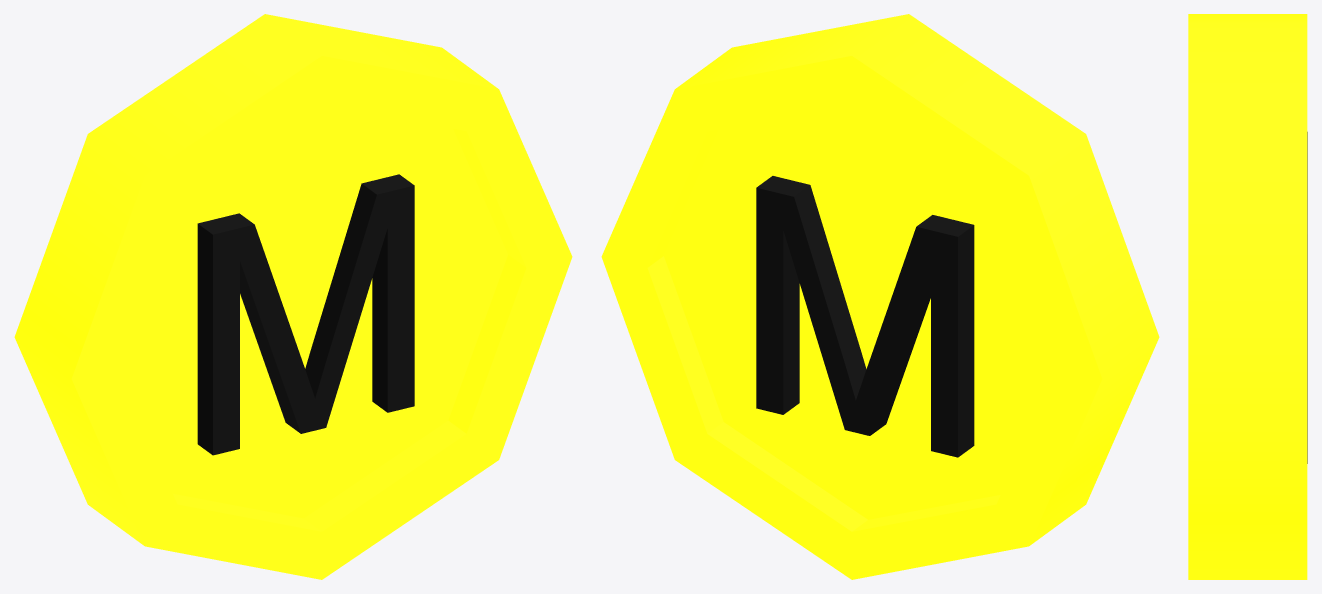
The model's file is coin.FBX.
3 renders of one model, left to right at view 1: azimuth 30°, elevation 25°; view 2: azimuth 150°, elevation 25°; view 3: azimuth 270°, elevation 25°, orthographic. The views are drawn at different scales.
Parts seen in each view (by area): view 1: Cylinder001; view 2: Cylinder001; view 3: Cylinder001.
Part boxes in pixels (x1=…): Cylinder001: x1=14, y1=14, x2=572, y2=579; Cylinder001: x1=601, y1=14, x2=1159, y2=579; Cylinder001: x1=1188, y1=14, x2=1307, y2=579.
Bounding box in the file's own units: 15.51 × 15.51 × 3.06.
